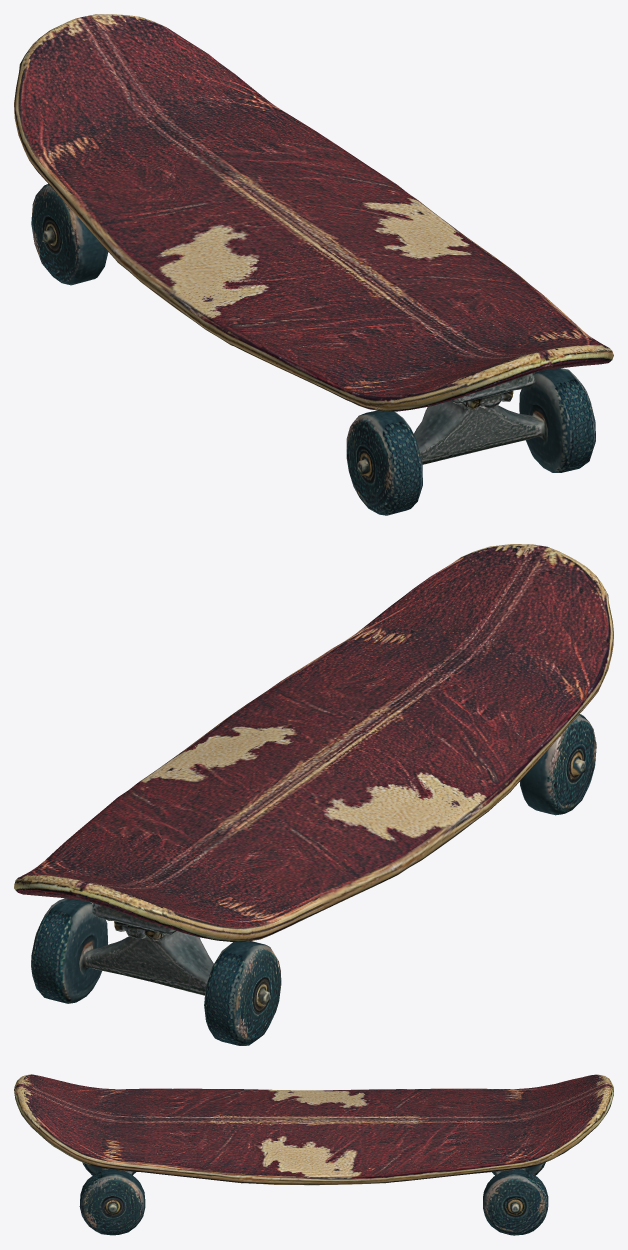
File: Skateboard.fbx
3 renders of one model, top to bottom at view 1: azimuth 30°, elevation 25°; view 2: azimuth 150°, elevation 25°; view 3: azimuth 270°, elevation 25°, orthographic. The views are drawn at different scales.
Visible parts, largest first — view 1: tripo_node_3d7272d9-552e-458e-a994-741d95a735e5; view 2: tripo_node_3d7272d9-552e-458e-a994-741d95a735e5; view 3: tripo_node_3d7272d9-552e-458e-a994-741d95a735e5.
Boxes of the visible parts, box(x1,y1,x2,y2) form: tripo_node_3d7272d9-552e-458e-a994-741d95a735e5: box(14, 14, 613, 515); tripo_node_3d7272d9-552e-458e-a994-741d95a735e5: box(14, 544, 613, 1045); tripo_node_3d7272d9-552e-458e-a994-741d95a735e5: box(14, 1074, 613, 1235).
Size of the model in its own units: 35.1 by 22.19 by 100.
1 material, 1 textured.
